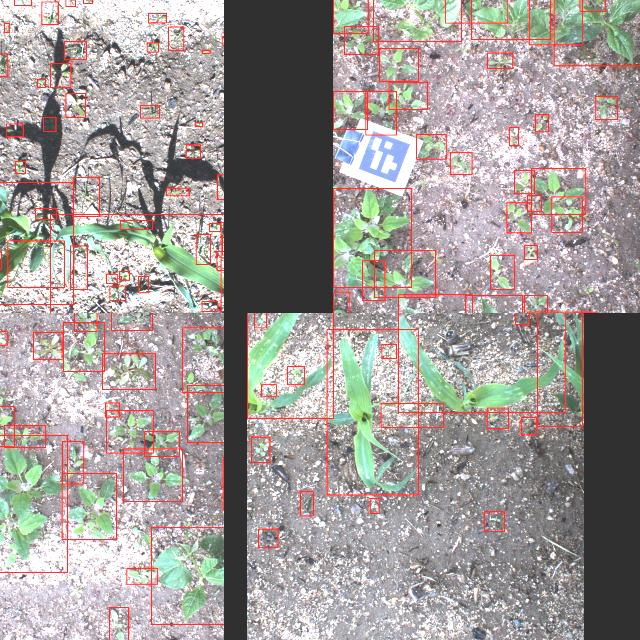crop: (49, 213, 224, 313), (397, 313, 564, 412), (327, 330, 418, 494), (246, 313, 332, 418), (0, 182, 72, 304), (150, 526, 224, 623), (553, 0, 640, 65), (537, 313, 582, 425), (372, 0, 461, 41), (470, 0, 549, 39), (528, 0, 582, 44), (398, 293, 472, 313), (332, 0, 367, 32)
weed: (0, 434, 67, 571), (333, 188, 411, 286), (61, 473, 116, 539), (122, 448, 182, 500), (373, 250, 435, 296), (182, 326, 224, 391), (6, 240, 64, 286), (530, 168, 586, 214), (186, 384, 224, 441), (63, 322, 104, 371), (106, 410, 152, 452), (102, 353, 154, 389), (381, 403, 444, 427), (444, 0, 507, 22), (332, 91, 368, 129), (365, 90, 395, 134), (378, 48, 418, 80), (551, 196, 581, 232), (72, 177, 98, 216), (388, 82, 427, 108), (343, 26, 377, 54), (61, 441, 83, 484), (144, 430, 180, 456), (362, 260, 384, 300), (4, 425, 44, 447), (32, 331, 62, 359), (490, 254, 514, 288), (506, 202, 530, 232), (416, 134, 446, 158), (70, 245, 86, 289), (110, 313, 151, 329), (109, 606, 128, 640), (0, 406, 13, 446), (250, 436, 270, 462), (126, 567, 158, 583), (595, 95, 617, 118), (449, 152, 471, 174), (65, 93, 85, 117), (50, 63, 70, 87), (514, 169, 534, 193), (486, 407, 508, 428), (196, 234, 210, 264), (486, 52, 512, 68), (523, 295, 546, 313), (484, 511, 504, 531), (257, 528, 277, 548), (63, 41, 85, 59), (73, 313, 96, 330), (168, 26, 184, 49), (41, 2, 57, 24), (332, 291, 348, 313), (299, 491, 313, 515), (286, 366, 304, 384), (520, 416, 536, 434), (109, 284, 125, 300), (120, 220, 152, 228), (579, 0, 604, 10), (527, 195, 541, 211), (380, 343, 396, 357), (34, 208, 56, 218), (140, 105, 158, 117), (5, 124, 22, 136), (186, 144, 200, 158), (105, 402, 119, 416), (536, 114, 548, 130), (260, 384, 276, 396), (148, 12, 166, 22), (508, 126, 518, 144), (166, 187, 188, 195), (217, 173, 224, 198), (43, 117, 55, 131), (524, 244, 536, 258), (253, 313, 265, 327), (514, 313, 529, 324), (0, 52, 7, 75), (138, 276, 148, 292), (201, 301, 217, 311), (217, 250, 224, 269), (369, 498, 378, 512), (14, 160, 24, 172), (146, 42, 158, 52), (105, 273, 116, 283), (119, 270, 129, 280), (13, 0, 30, 5), (0, 331, 6, 345), (210, 223, 220, 231), (36, 79, 44, 87), (65, 0, 75, 6), (4, 22, 8, 32), (194, 122, 202, 126), (82, 0, 91, 3), (202, 49, 210, 52)
